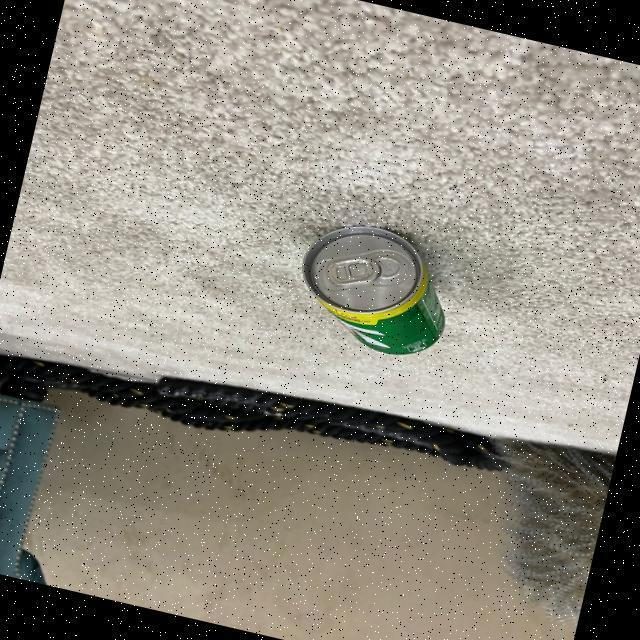can: (284, 210, 470, 374)
